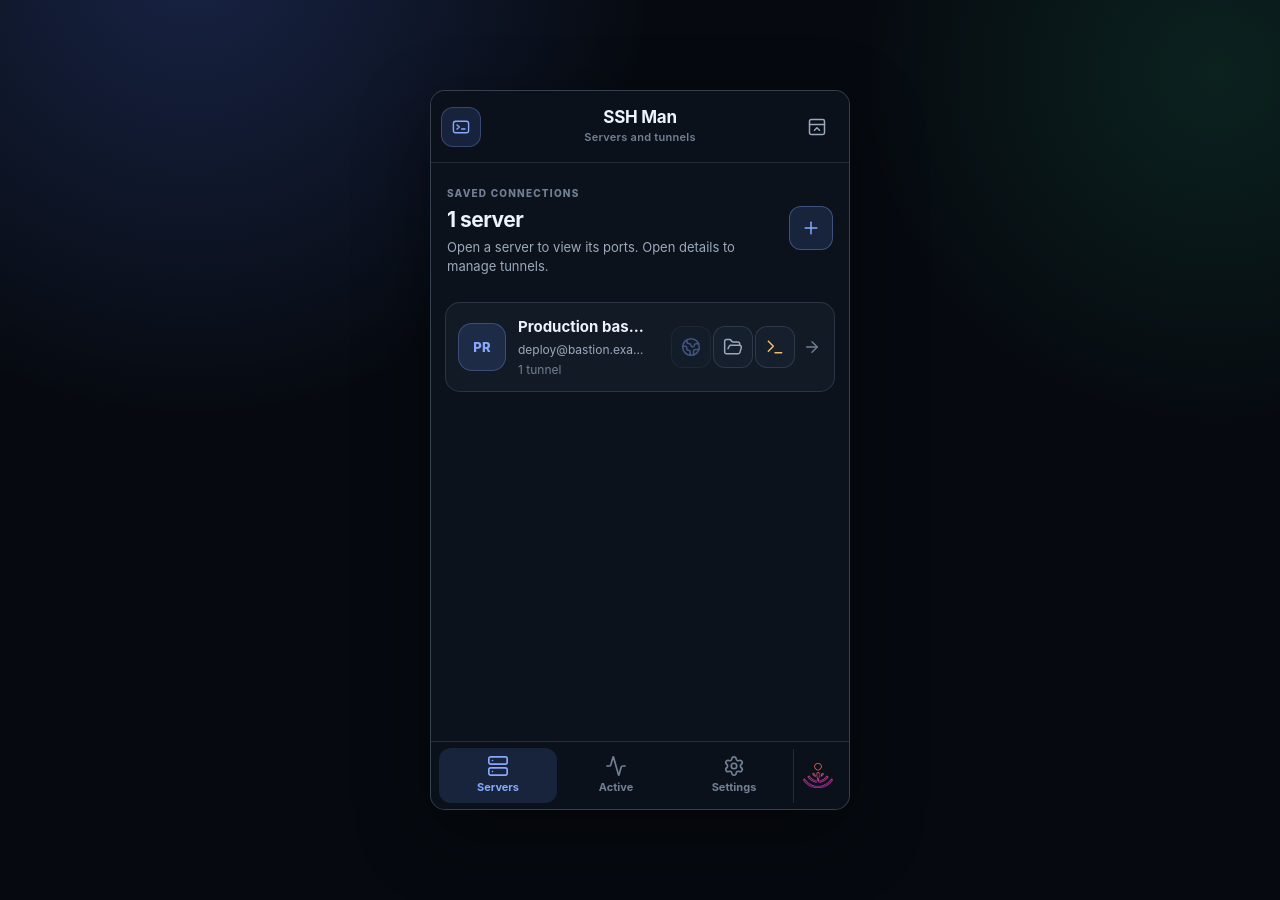
React application flows › keeps a stopped tunnel actionable with settings and history, then exposes it in Active after starting
Click the button named "Show Production bastion details" at (812, 347), box x1=797 y1=326 x2=827 y2=368
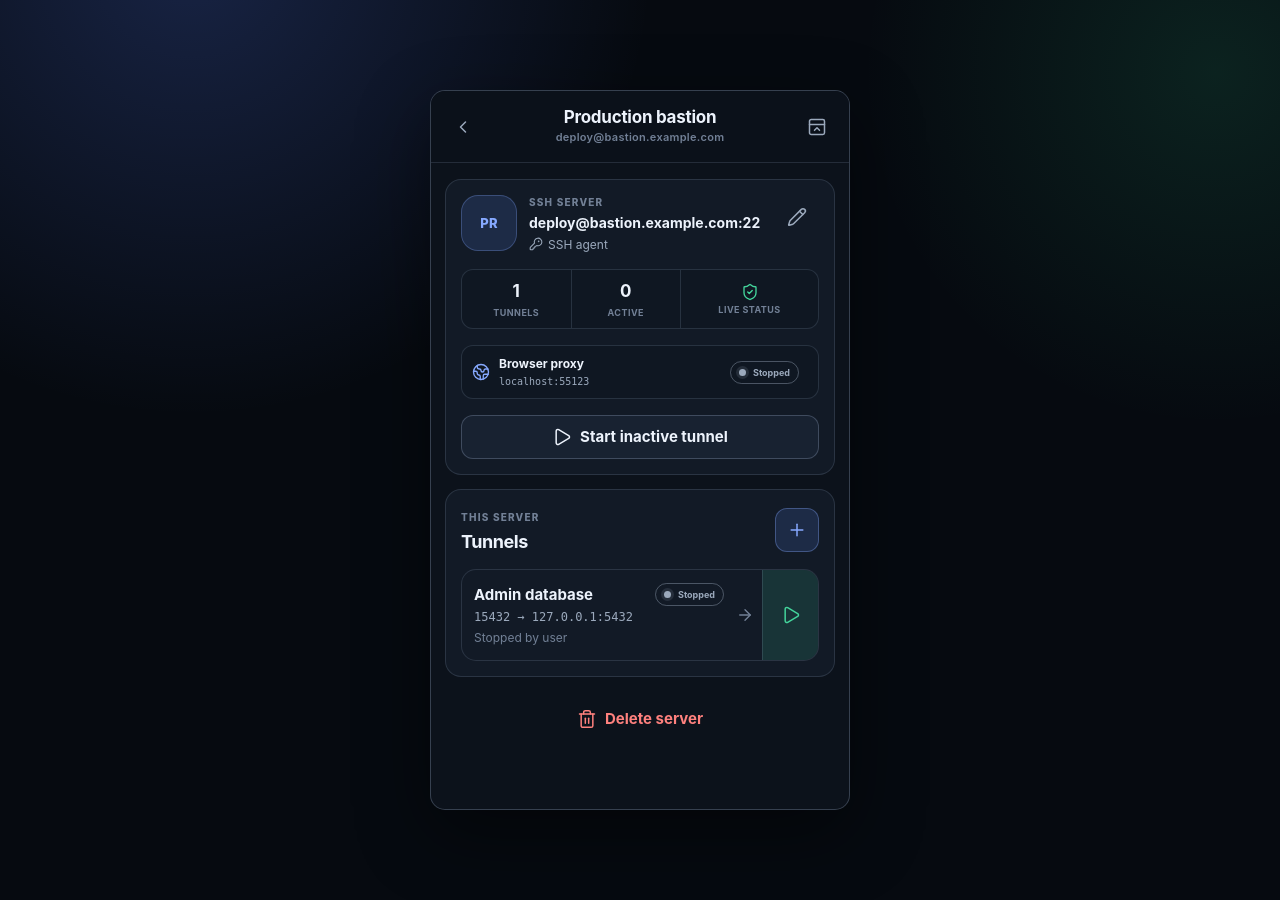
Click the button "Admin database" at (612, 615), box x1=462 y1=570 x2=762 y2=660
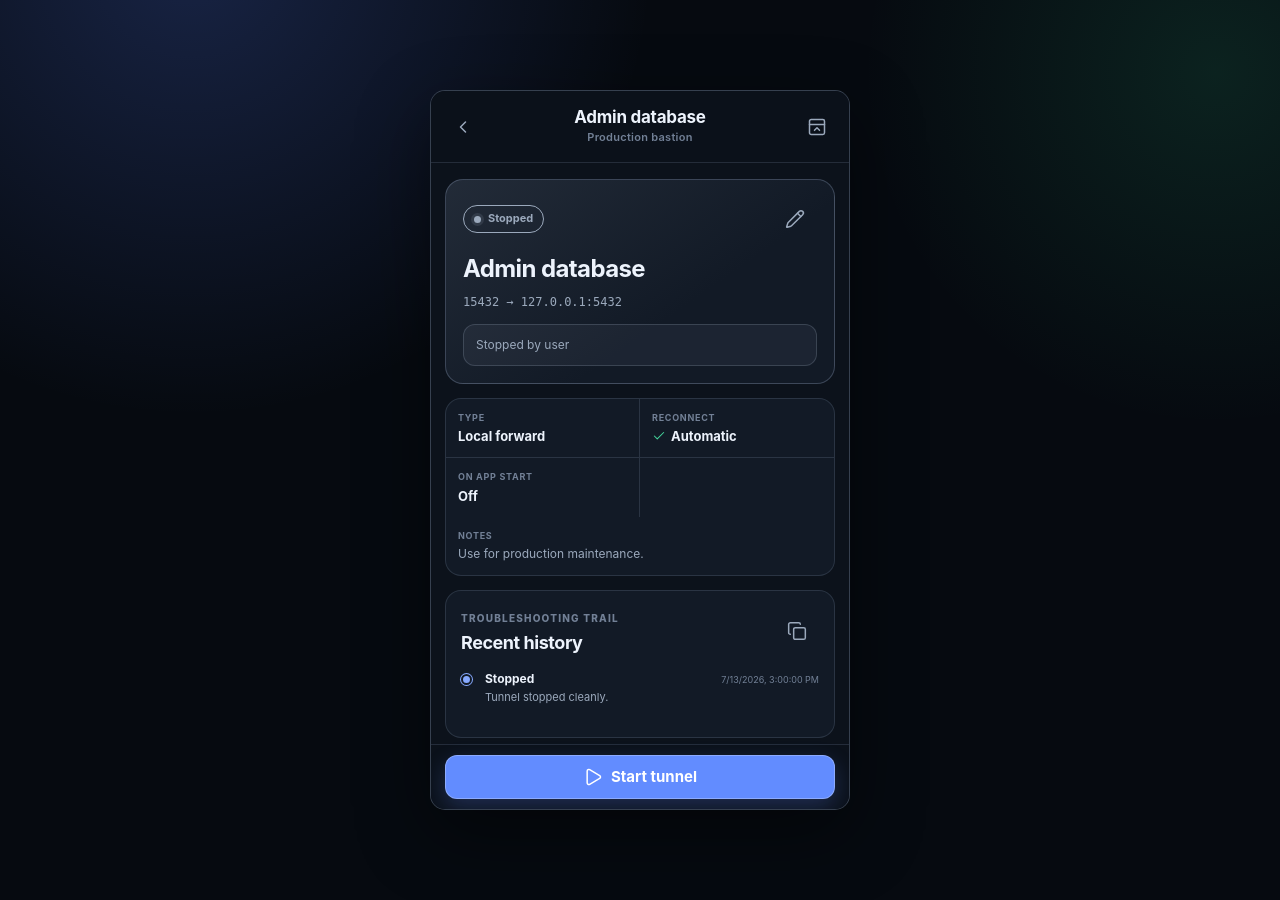
Check: the element named "Tunnel status: Stopped" is shown, box x1=463 y1=205 x2=544 y2=233
Check: the text "15432 → 127.0.0.1:5432" is shown, box x1=463 y1=295 x2=622 y2=309
Check: the button "Start tunnel" is shown
Click the button "Start tunnel" at (640, 777), box x1=445 y1=755 x2=835 y2=799
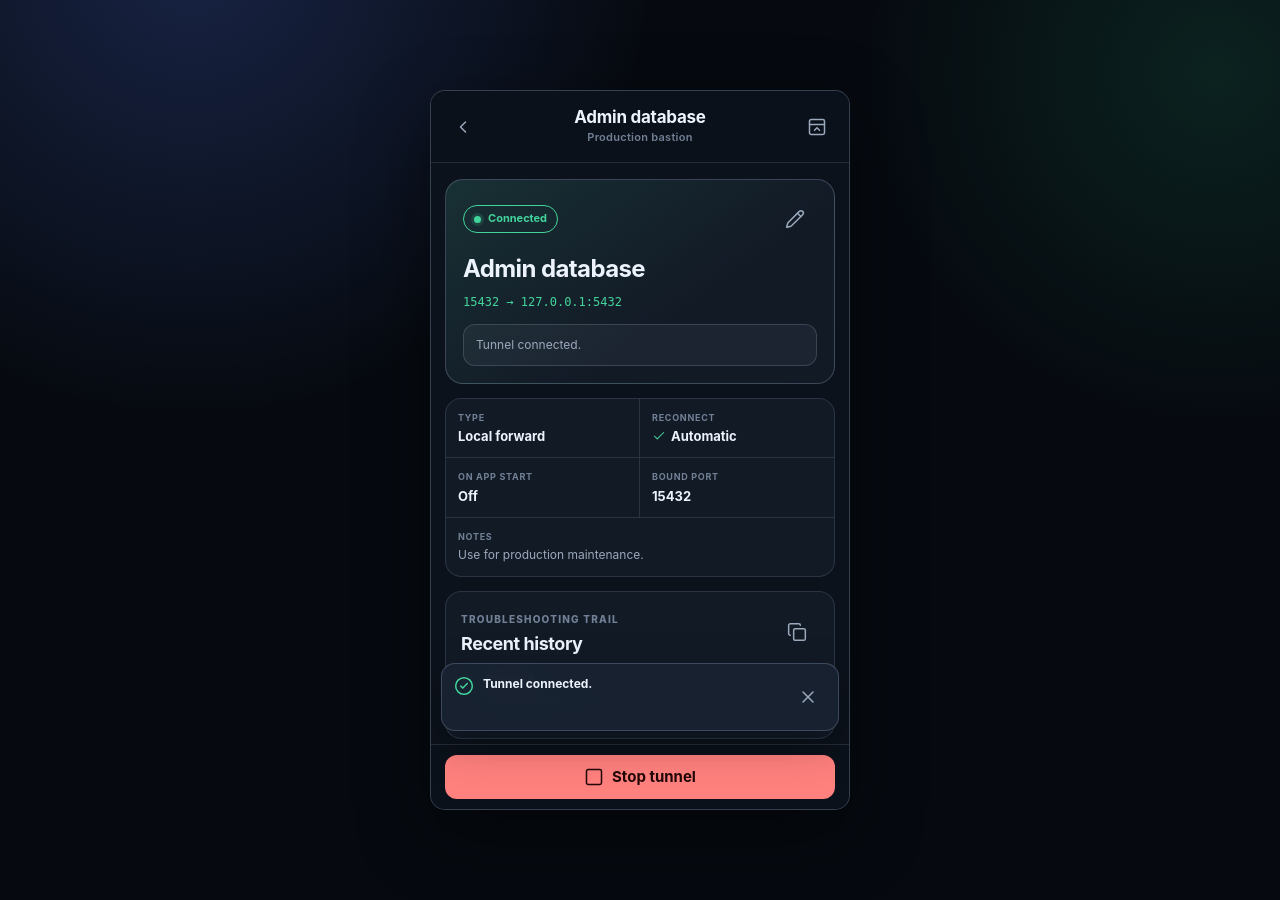
Check: the button "Stop tunnel" is shown, box x1=445 y1=755 x2=835 y2=799
Check: the element named "Tunnel status: Connected" is shown, box x1=463 y1=205 x2=558 y2=233
Click the button named "Go back" at (463, 126), box x1=441 y1=104 x2=485 y2=148
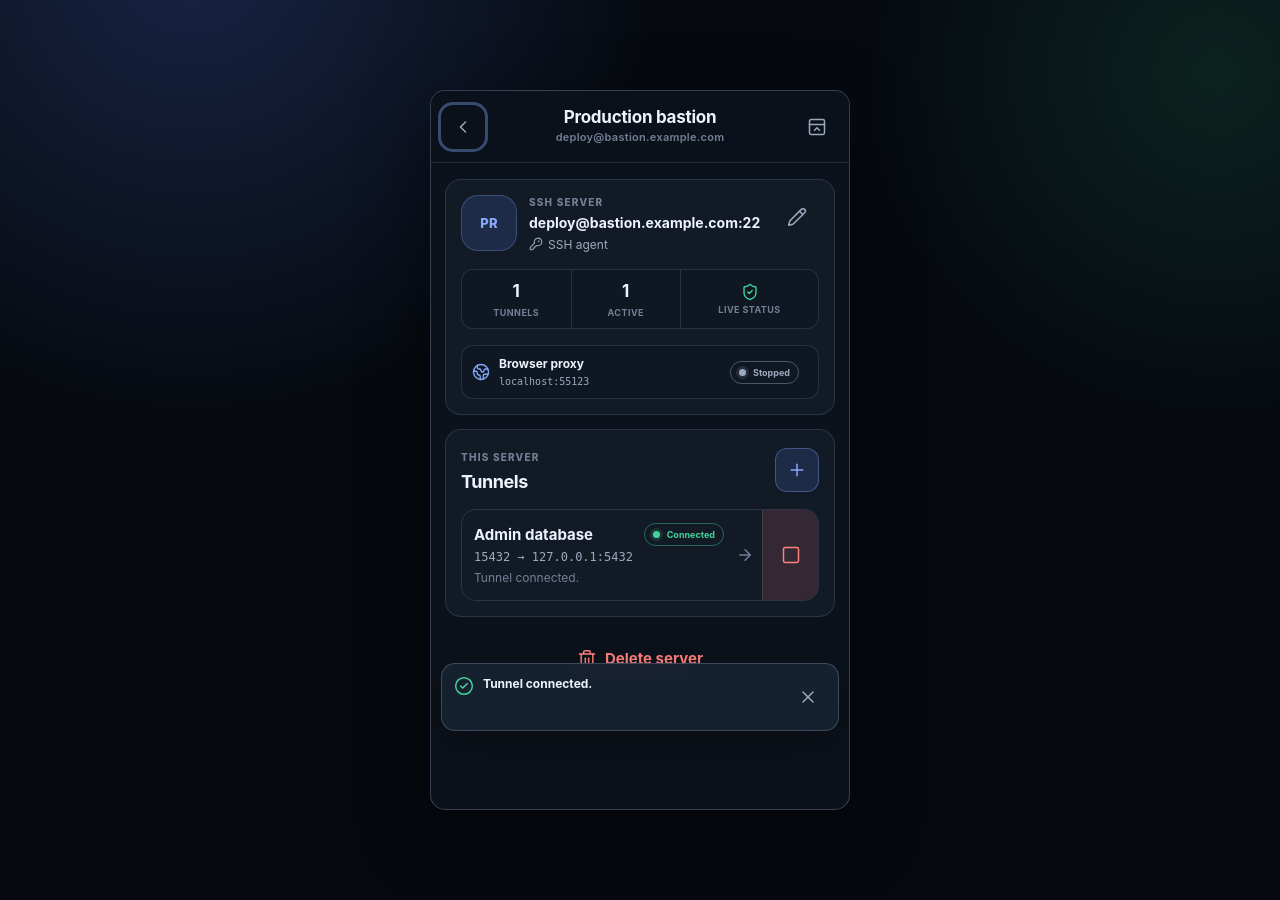
Check: the button "Start inactive tunnel" is not shown
Click the button named "Go back" at (463, 126), box x1=441 y1=104 x2=485 y2=148
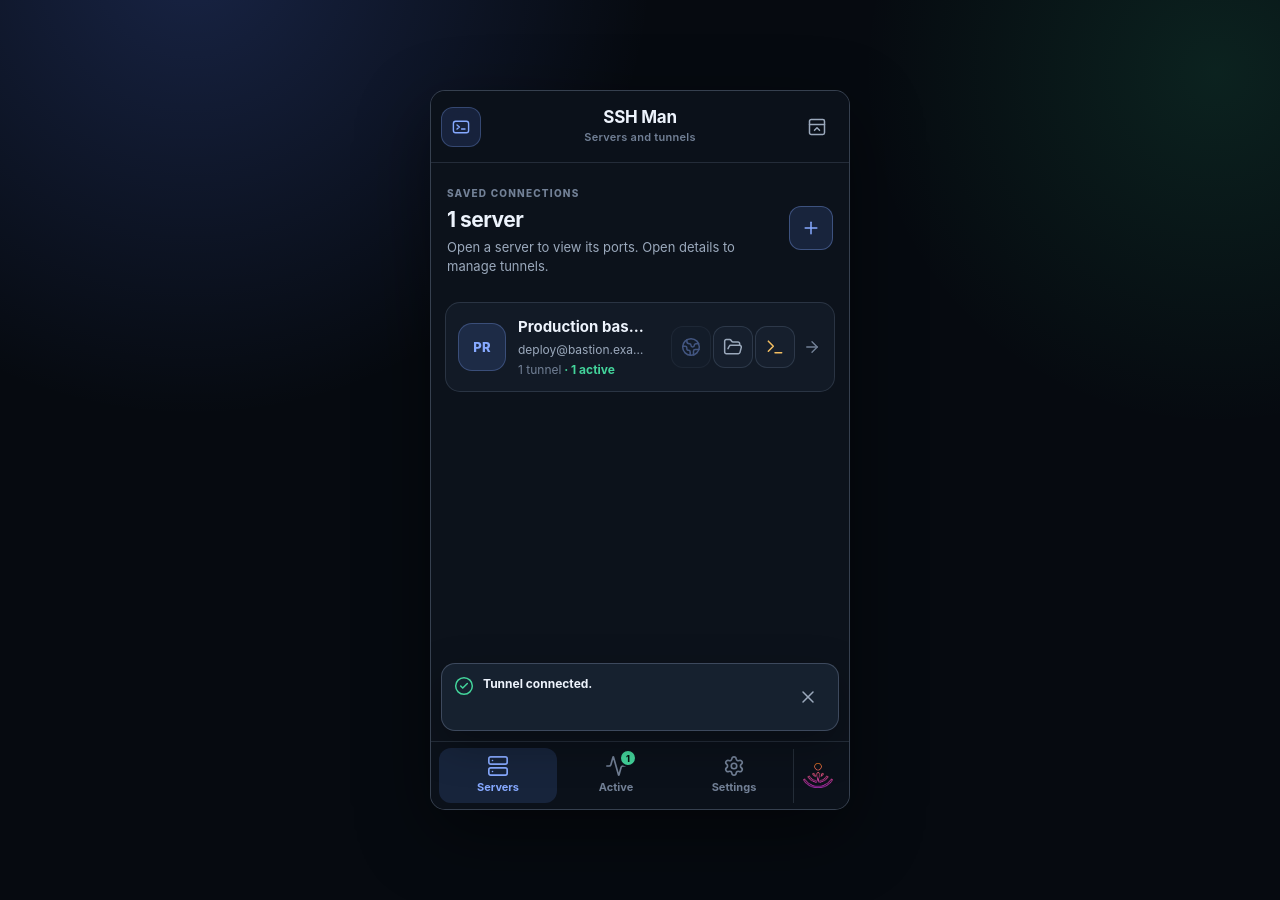
Click the button "1 Active" at (616, 776), box x1=557 y1=748 x2=675 y2=803
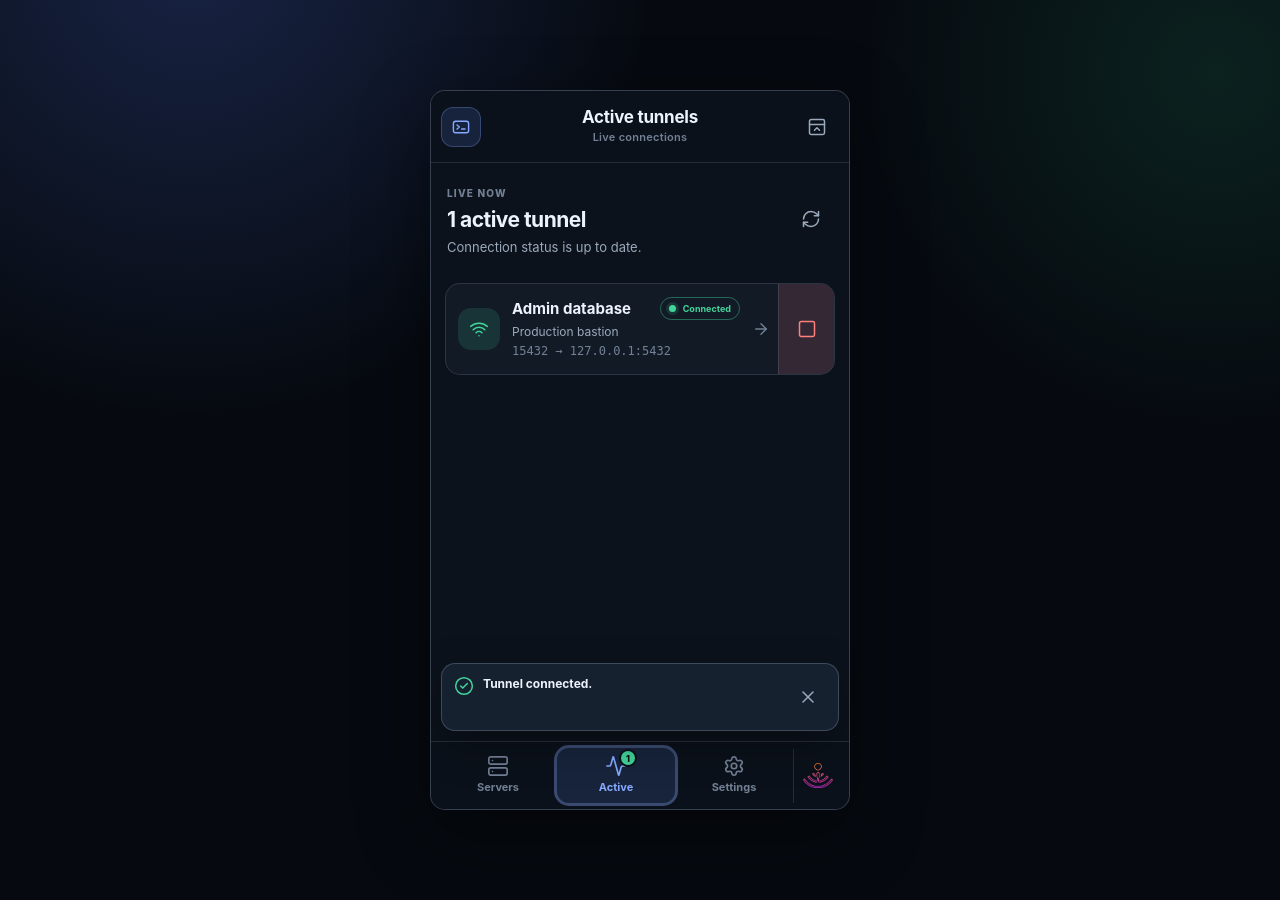
Check: the heading "1 active tunnel" is shown, box x1=447 y1=207 x2=586 y2=232
Check: the button "Admin database" is shown, box x1=446 y1=284 x2=778 y2=374
Check: the element named "Tunnel status: Connected" is shown, box x1=660 y1=297 x2=740 y2=320
